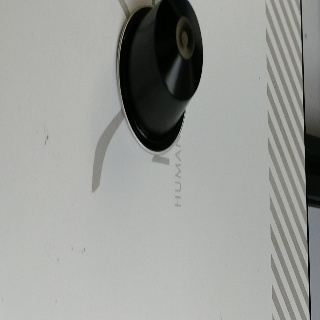capsule_10: (115, 1, 204, 156)
